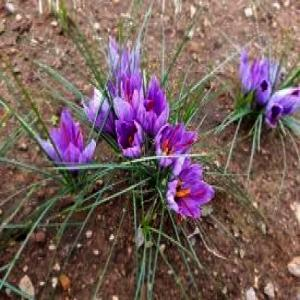Saffron: (36, 110, 94, 180), (165, 158, 214, 218), (152, 120, 202, 172), (115, 115, 147, 155)
